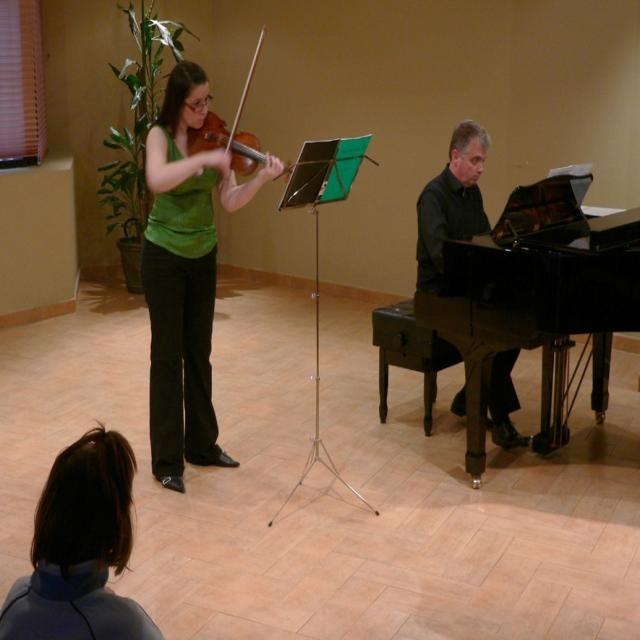violin: (184, 109, 298, 182)
